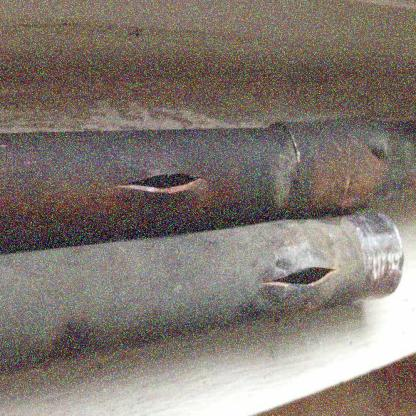burst: (114, 170, 218, 211), (266, 254, 349, 298)
